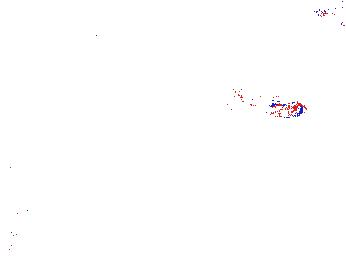X-ray fish: (128, 224, 160, 260)
red belly glassfish: (237, 86, 307, 120)
redtail glassfish: (7, 175, 32, 257)
